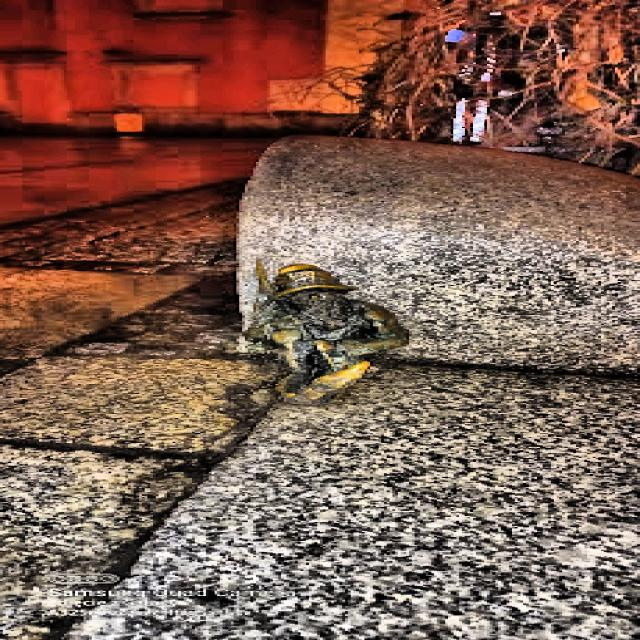Spioch: (244, 264, 407, 403)
